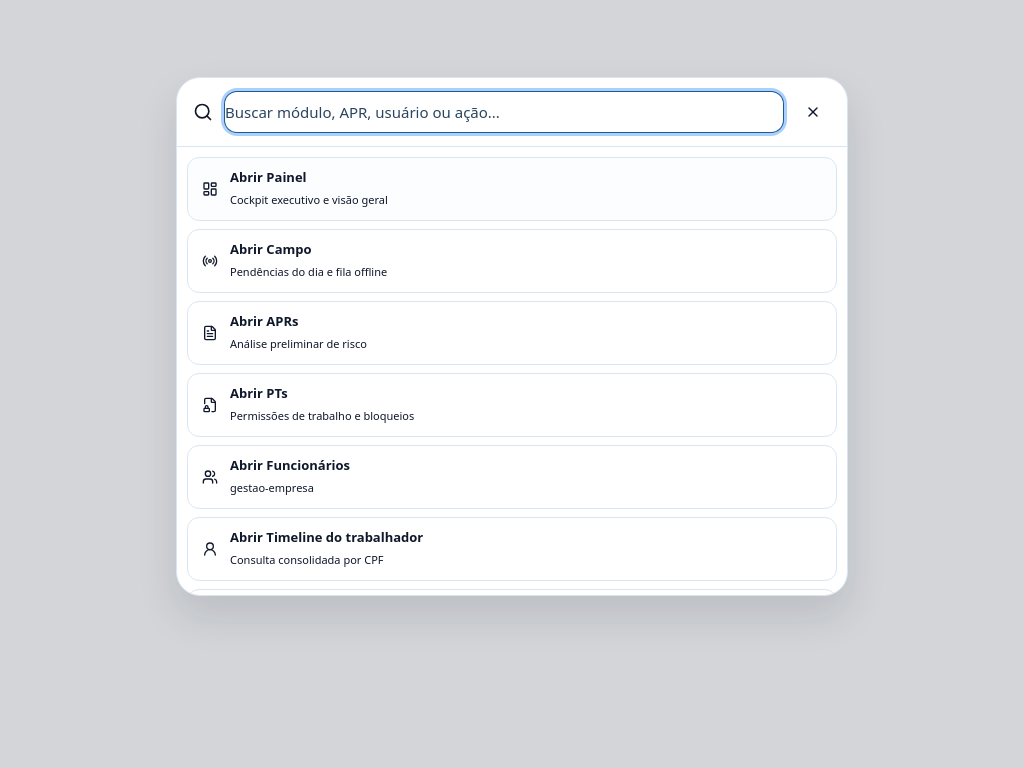
CommandPalette › consulta usuários para gestor e rejeita resultados de outro tenant
Type "ali" into the dropdown named "Buscar ações rápidas".
click(504, 112); type("ali")  # box [225,92,783,132]
Wait 300 ms
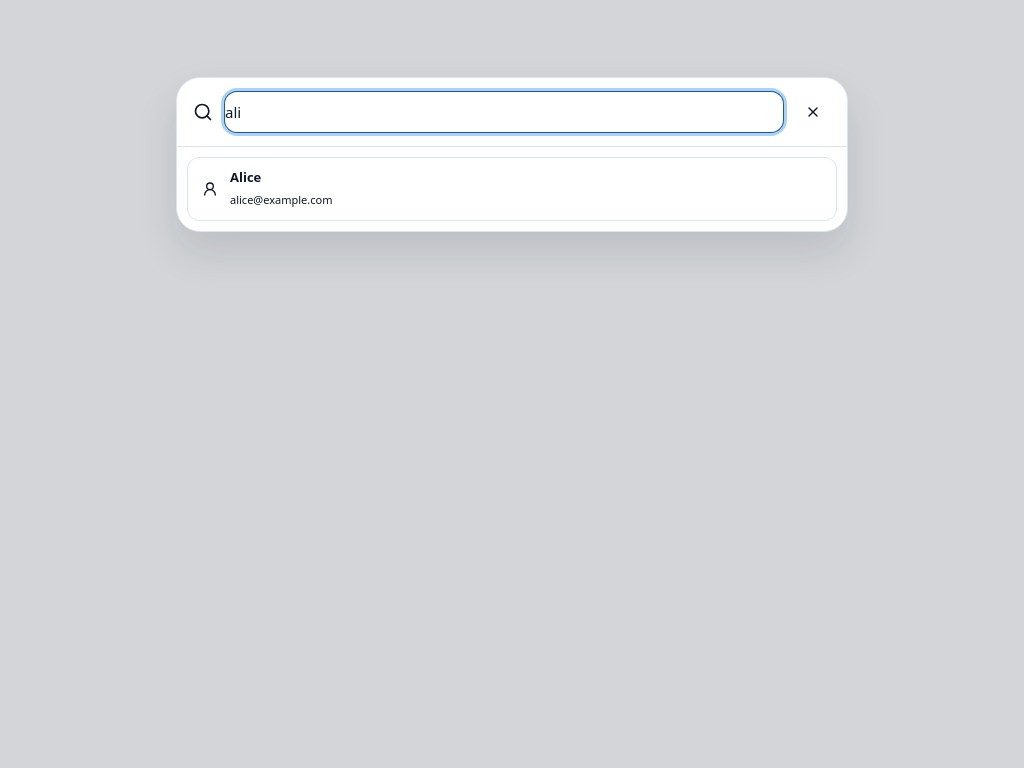
Expected: the option "Alice alice@example.com" is shown, [187,157,837,221]
